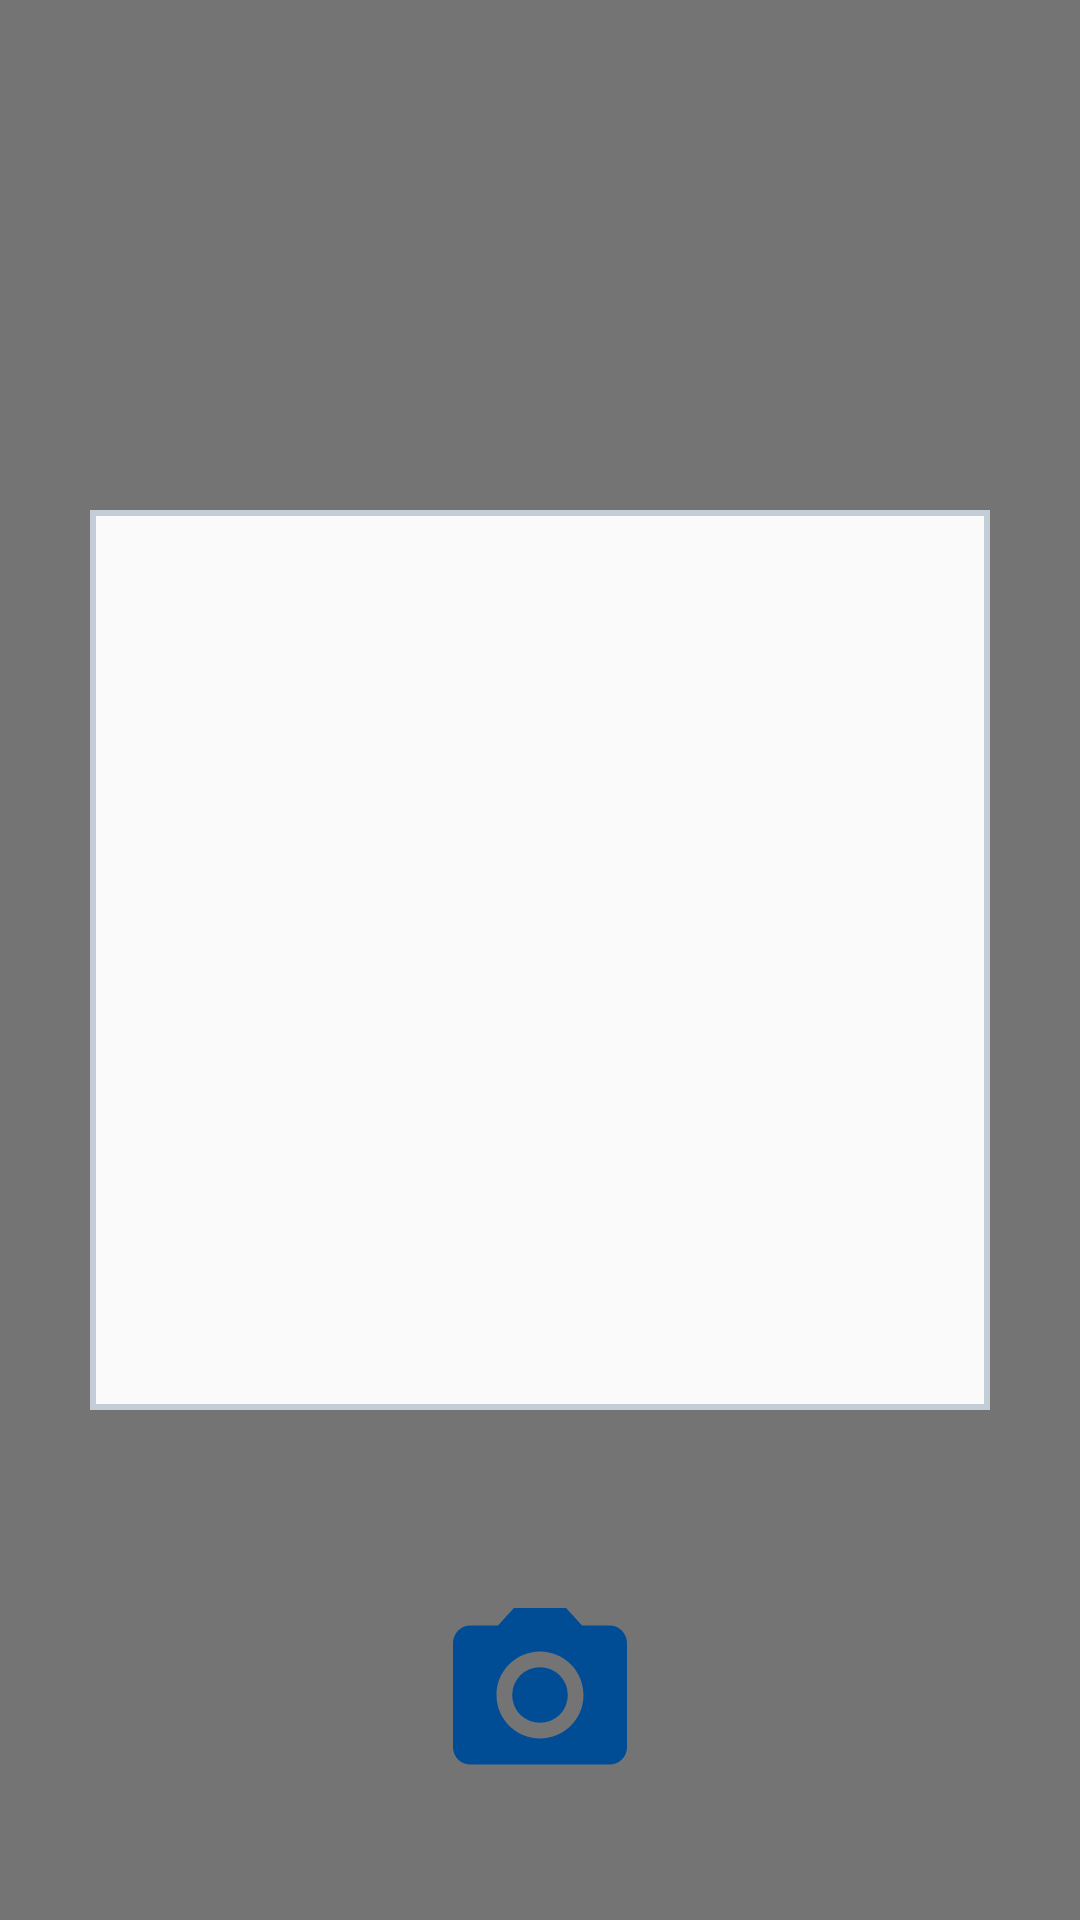

Point at icon controls on the screen. Image size 1080 × 1920, points as point (x, y).
camera: point (540, 1686)
